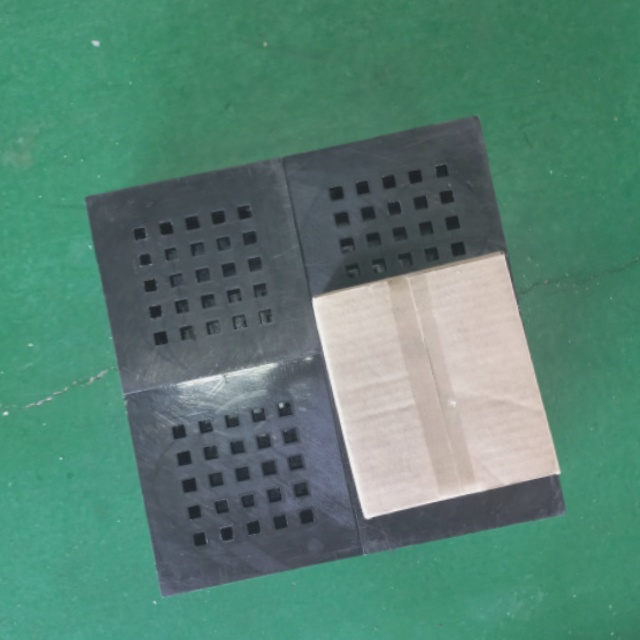box: (305, 250, 564, 526)
pallet: (58, 102, 559, 618)
